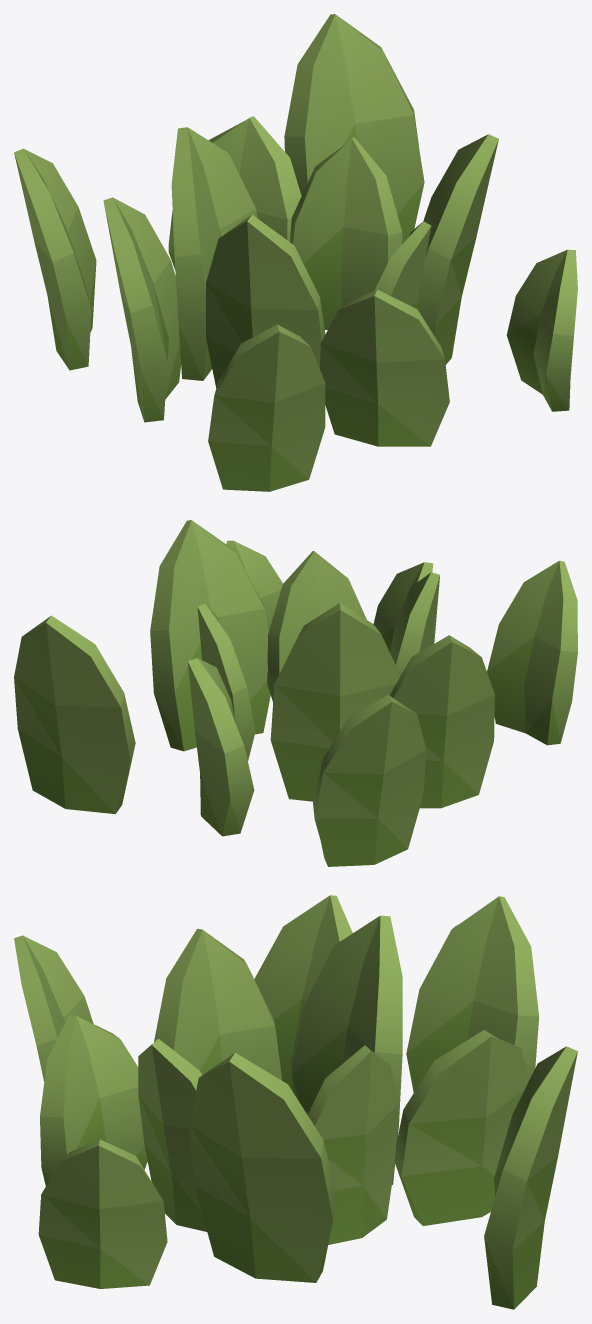
File: itch_kaykit_forest_grass_1_d_color1.glb
3 views of the same model, one above another, from view 1: azimuth 30°, elevation 25°; view 2: azimuth 150°, elevation 25°; view 3: azimuth 270°, elevation 25° (orthographic). The views are drawn at different scales.
Parts seen in each view (by area): view 1: Grass_1_D_Color1; view 2: Grass_1_D_Color1; view 3: Grass_1_D_Color1.
Boxes of the visible parts, x1,y1,x2,y2 form: Grass_1_D_Color1: (14,14,577,491); Grass_1_D_Color1: (14,520,577,866); Grass_1_D_Color1: (14,895,577,1309).
Bounding box in the file's own units: 0.881 × 0.4798 × 0.96.
